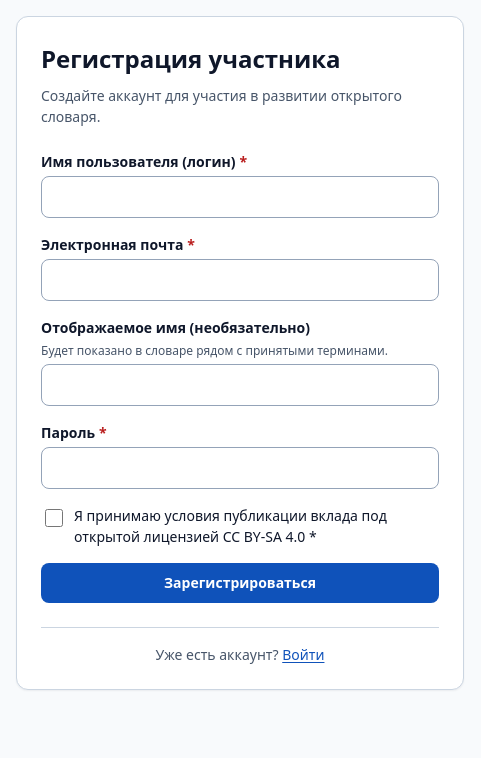
Scenario: RegisterPage and AcceptTermsBanner › displays server field errors returned by POST /api/auth/register/
The width and height of the screenshot is (481, 758).
In the field labelled "Имя пользователя (логин)*": (240, 197) [41,176,439,218], type "existing"
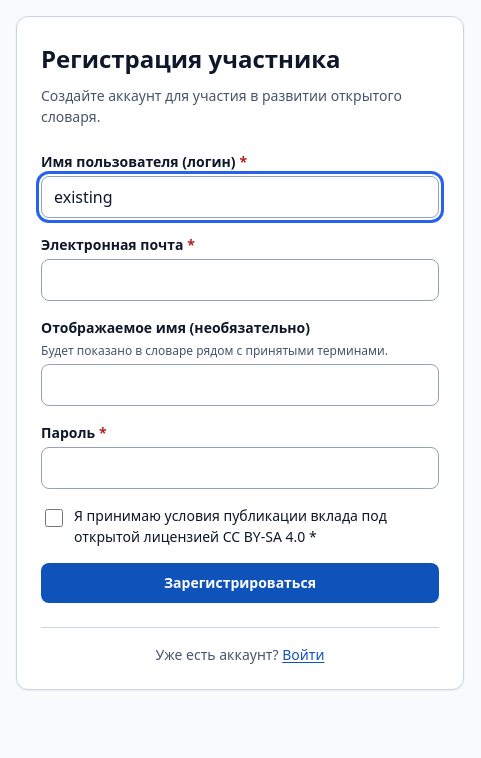
In the field labelled "Электронная почта*": (240, 280) [41,259,439,301], type "existing@example.com"
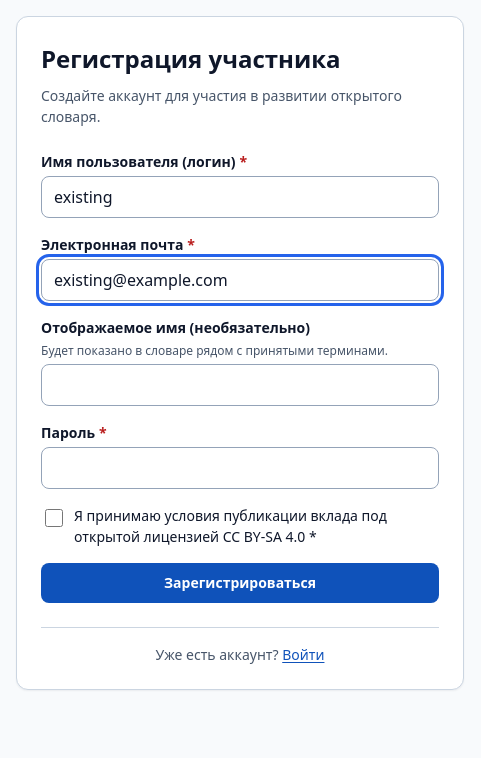
In the password field labelled "Пароль*": (240, 468) [41,447,439,489], type "StrongPass123!"
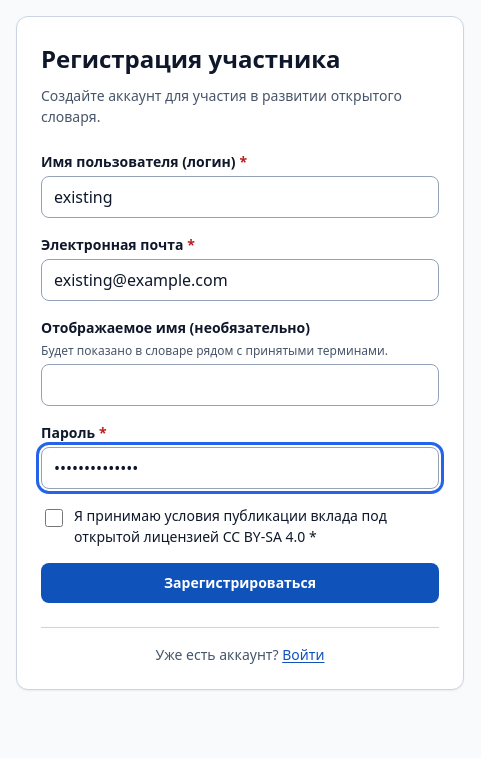
Click the checkbox labelled "Я принимаю условия публикации": (54, 518) [45,509,63,527]
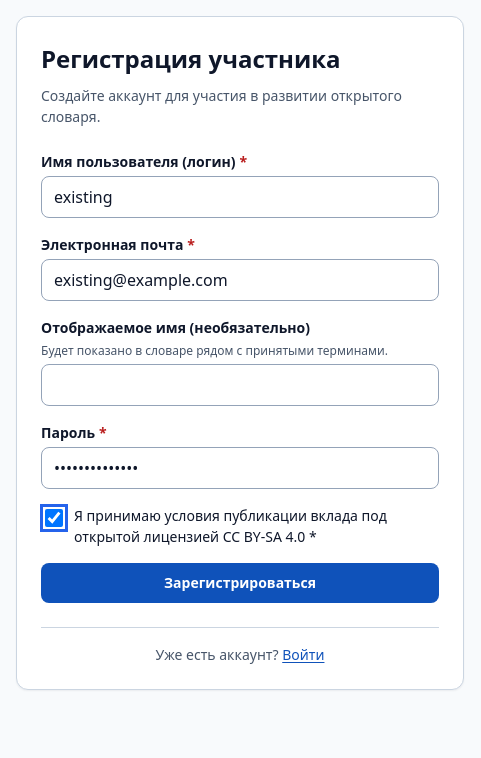
Click the button "Зарегистрироваться": (240, 583) [41,563,439,603]
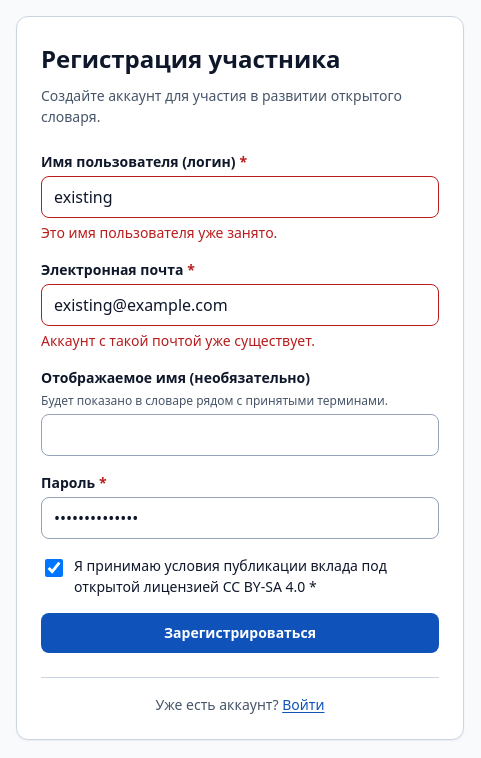
Expected: the text "Это имя пользователя уже занято." is shown, [41,223,277,242]
Expected: the text "Аккаунт с такой почтой уже существует." is shown, [41,331,315,350]
